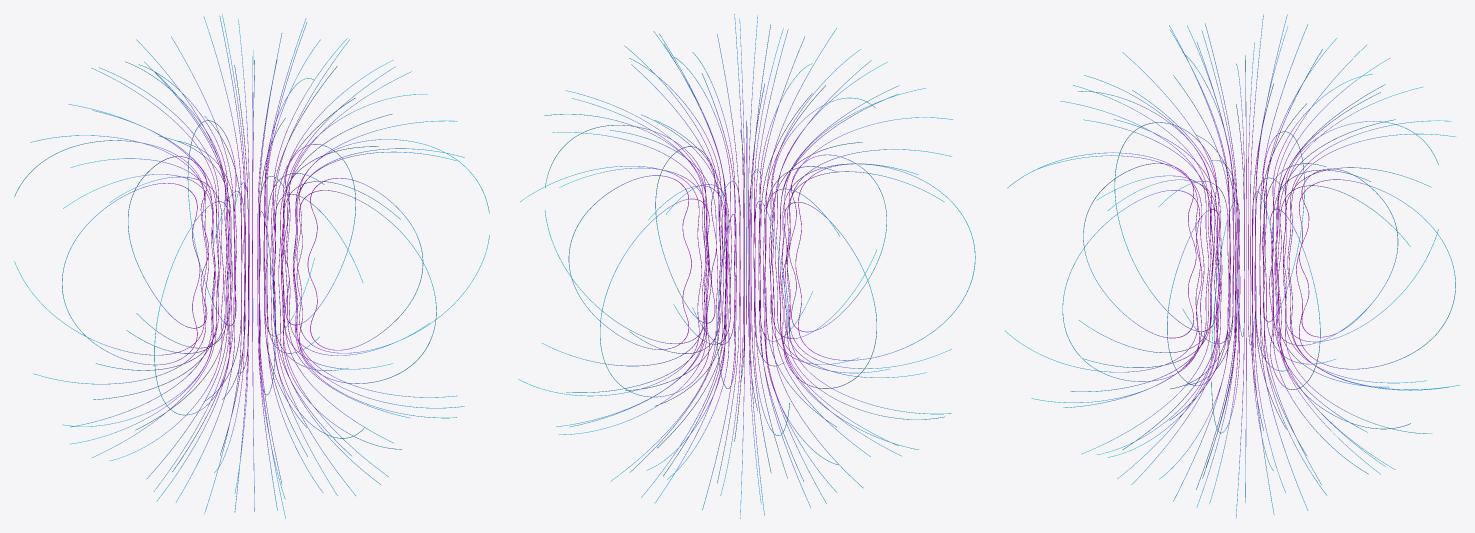
The model's file is coil_5_field_lines.gltf.
3 views of the same model, side by side, from view 1: azimuth 30°, elevation 25°; view 2: azimuth 150°, elevation 25°; view 3: azimuth 270°, elevation 25° (orthographic).
Parts seen in each view (by area): view 1: Renderer Node; view 2: Renderer Node; view 3: Renderer Node.
Part boxes in pixels (<box>): Renderer Node: <box>14,14,489,518</box>; Renderer Node: <box>518,14,975,518</box>; Renderer Node: <box>1004,14,1459,518</box>.
Size of the model in its own units: 1.97 by 2.06 by 1.89.
Materials: 1 (1 with a texture image).
